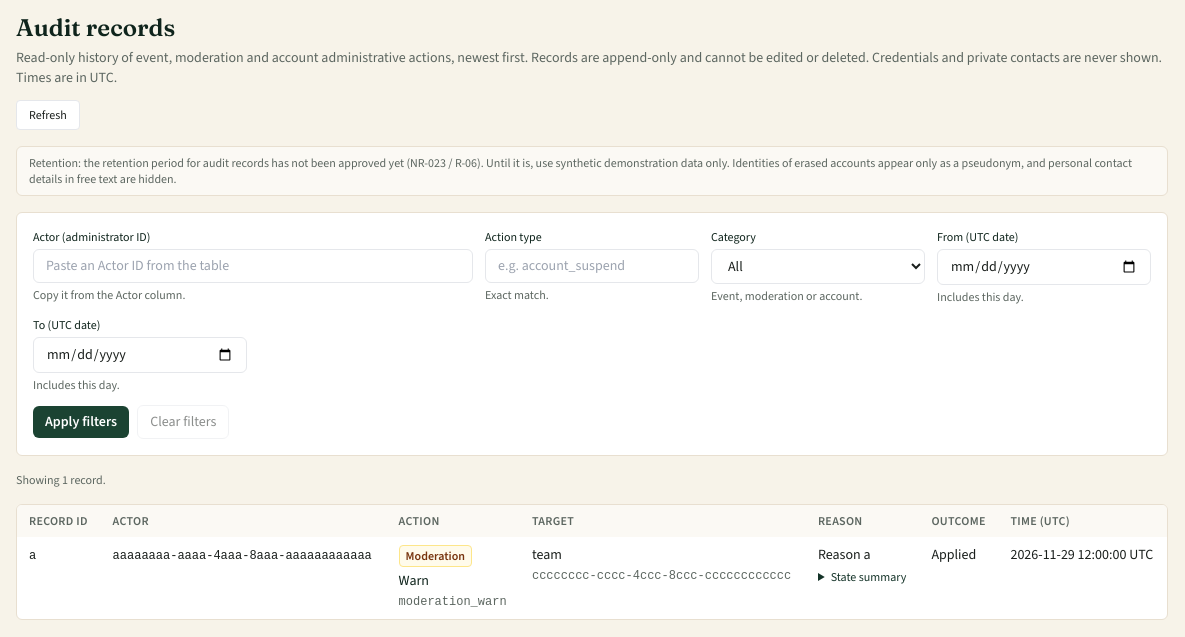
it: AuditRecordsPage retention and pseudonymization (US-028 / #263) › is shown in the "no matches" filtered empty state
Type "no_such_action" into the field with test id "audit-filter-actionType". click: (592, 266)
box: [485, 249, 699, 283]
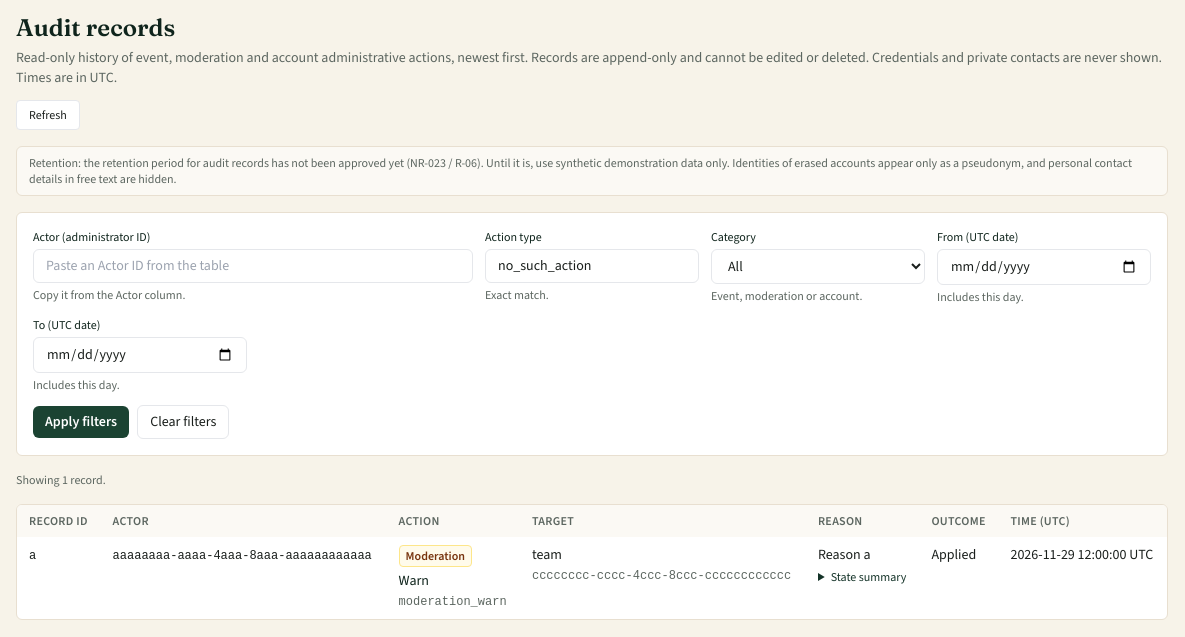
Click the button with test id "audit-filter-apply". click: (81, 422)
box: [33, 406, 129, 438]
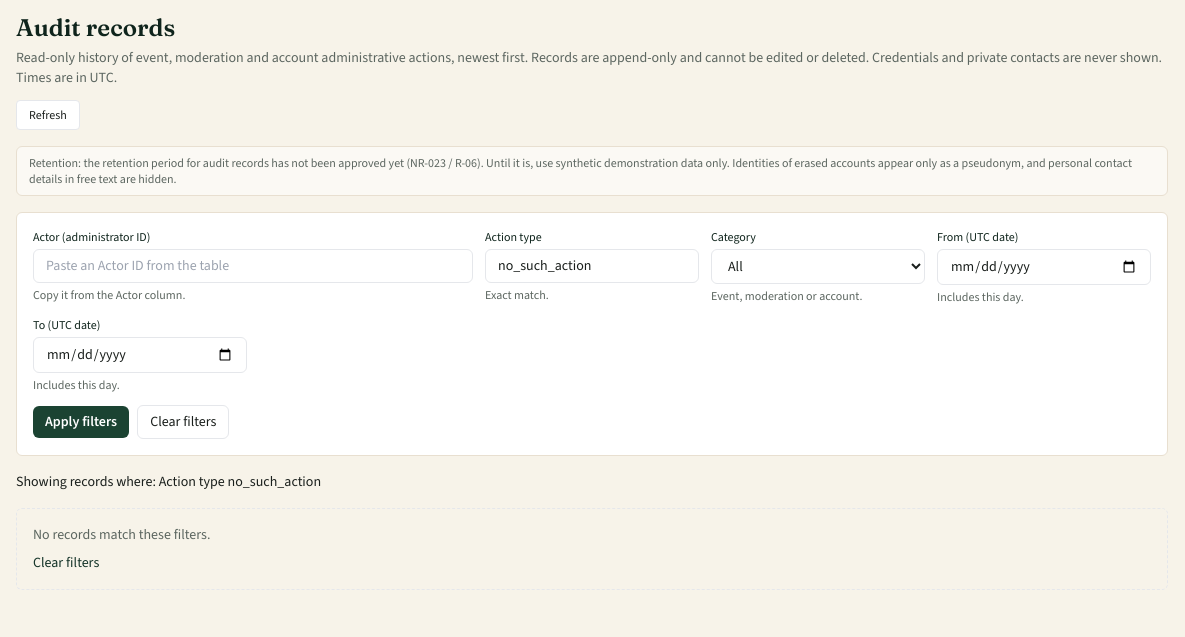
expect the text with test id "audit-retention-note" is shown: met, box [16, 146, 1168, 196]
expect the text "No records match these filters." is shown: met, box [33, 525, 210, 544]
